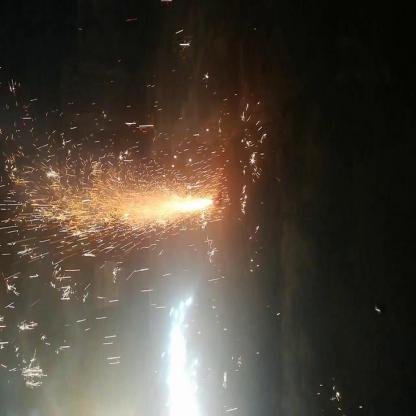fire: (97, 177, 218, 227)
